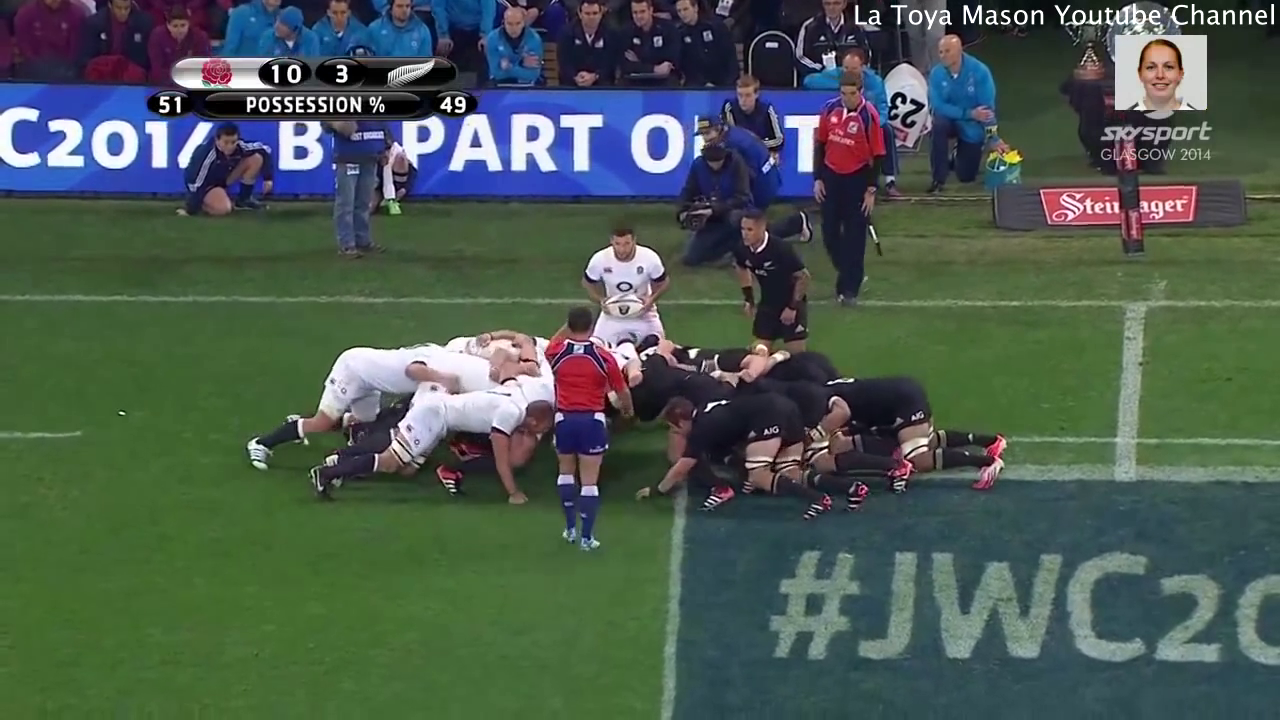ball: (598, 291, 652, 320)
player: (305, 385, 553, 500), (660, 395, 863, 513), (240, 340, 413, 472), (819, 373, 1016, 480), (542, 308, 617, 557), (727, 213, 821, 354), (569, 228, 677, 327)
scrum: (232, 310, 1026, 515)
